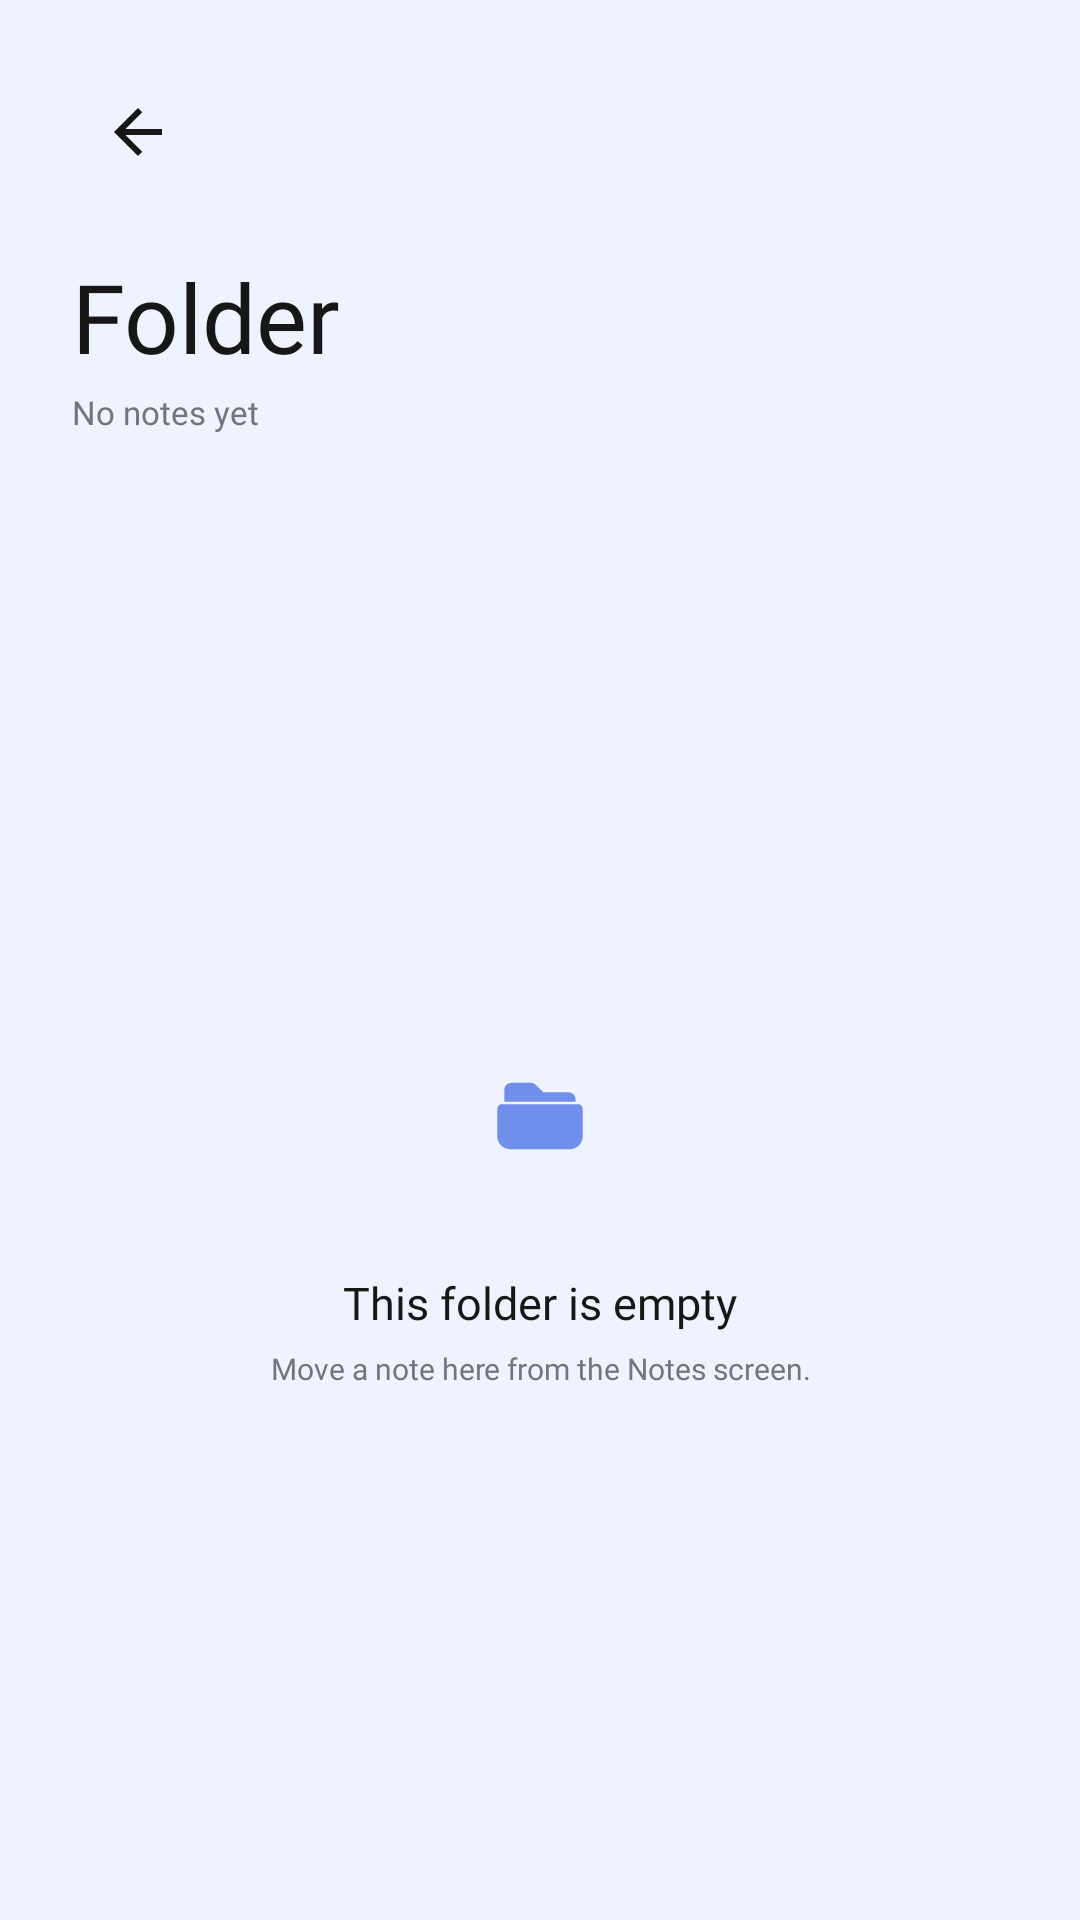

Screen size 1080 x 1920. Icon name, then its box in pixels as {"left": x1, "top": y1, "right": x2, "bottom": y2}:
Back: {"left": 114, "top": 108, "right": 162, "bottom": 156}
